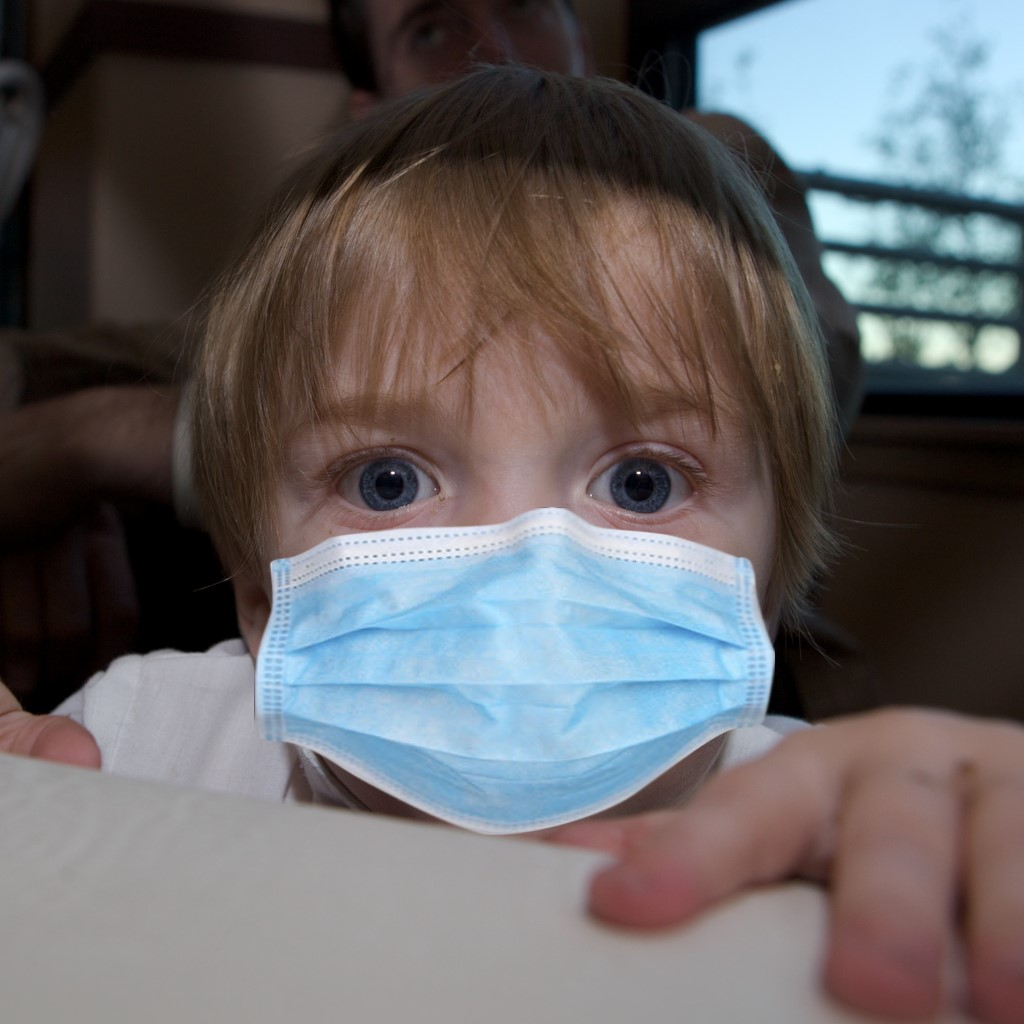con_mascara: (224, 222, 777, 816)
